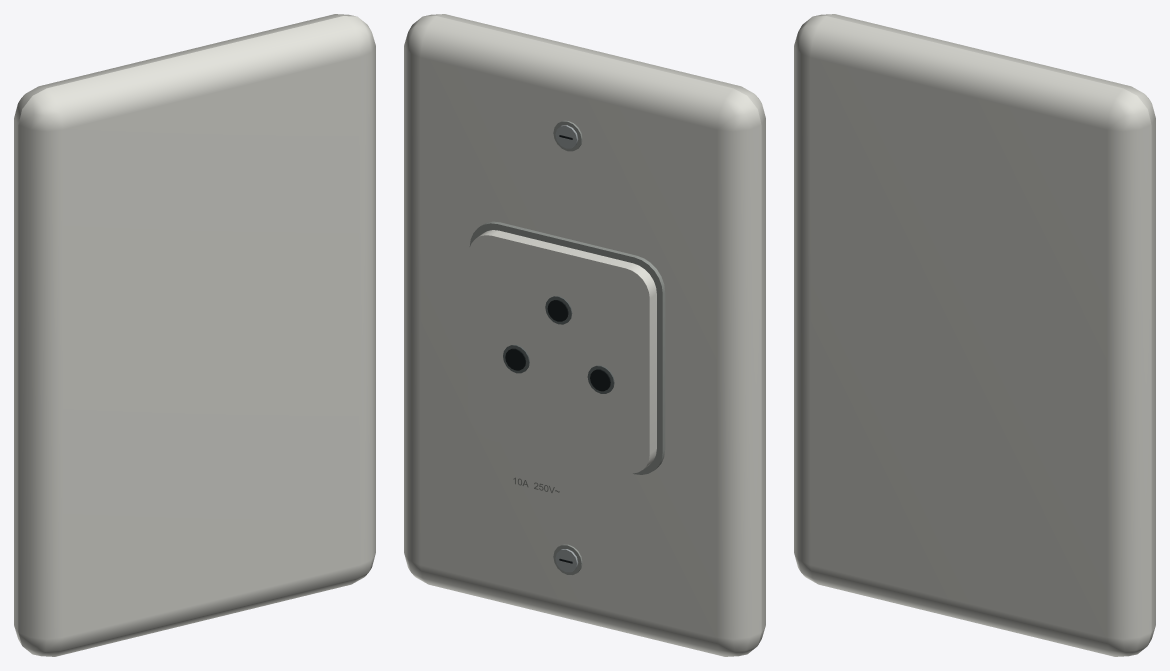
The model's file is tomada_realista.glb.
3 views of the same model, side by side, from view 1: azimuth 30°, elevation 25°; view 2: azimuth 150°, elevation 25°; view 3: azimuth 330°, elevation 25° (orthographic).
Parts seen in each view (by area): view 1: Espelho da tomada; view 2: Espelho da tomada, Modulo central, Contorno do modulo; view 3: Espelho da tomada.
Boxes of the visible parts, x1,y1,x2,y2 form: Espelho da tomada: [14, 14, 375, 656]; Espelho da tomada: [404, 14, 765, 656]; Modulo central: [468, 230, 656, 473]; Contorno do modulo: [469, 221, 665, 474]; Espelho da tomada: [794, 14, 1155, 656].
Size of the model in its own units: 0.075 by 0.115 by 0.016.
Materials: 6 (1 with a texture image).
